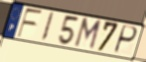5: (57, 14, 83, 46)
7: (97, 20, 120, 53)
F: (16, 8, 44, 39)
I: (40, 11, 56, 43)
M: (72, 17, 103, 52)
P: (112, 24, 139, 55)
